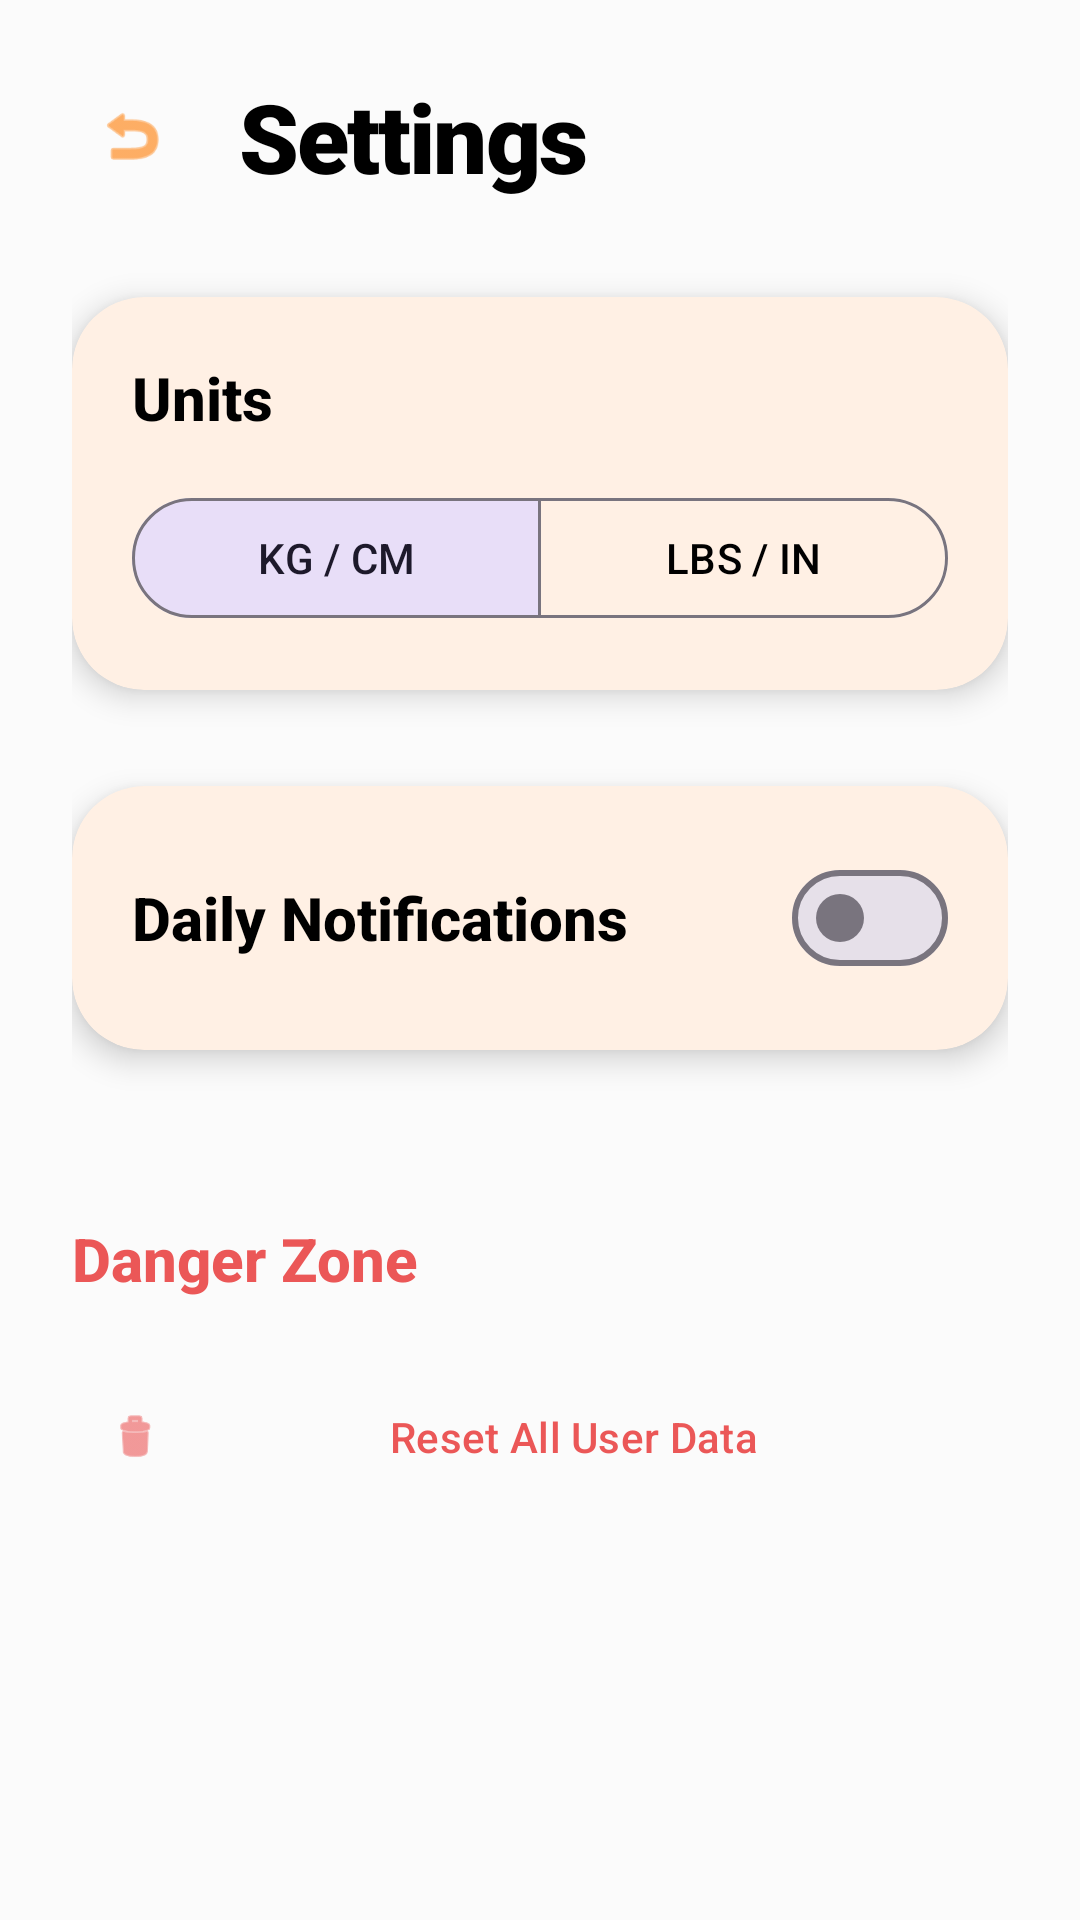

Where icons sit on this 1080x1920 app screen, as (x1, y1, x2, y2):
revert: (107, 113, 159, 160)
